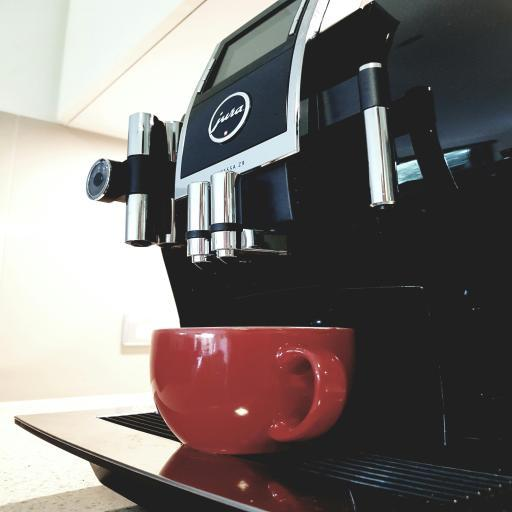cup: (149, 326, 353, 455)
